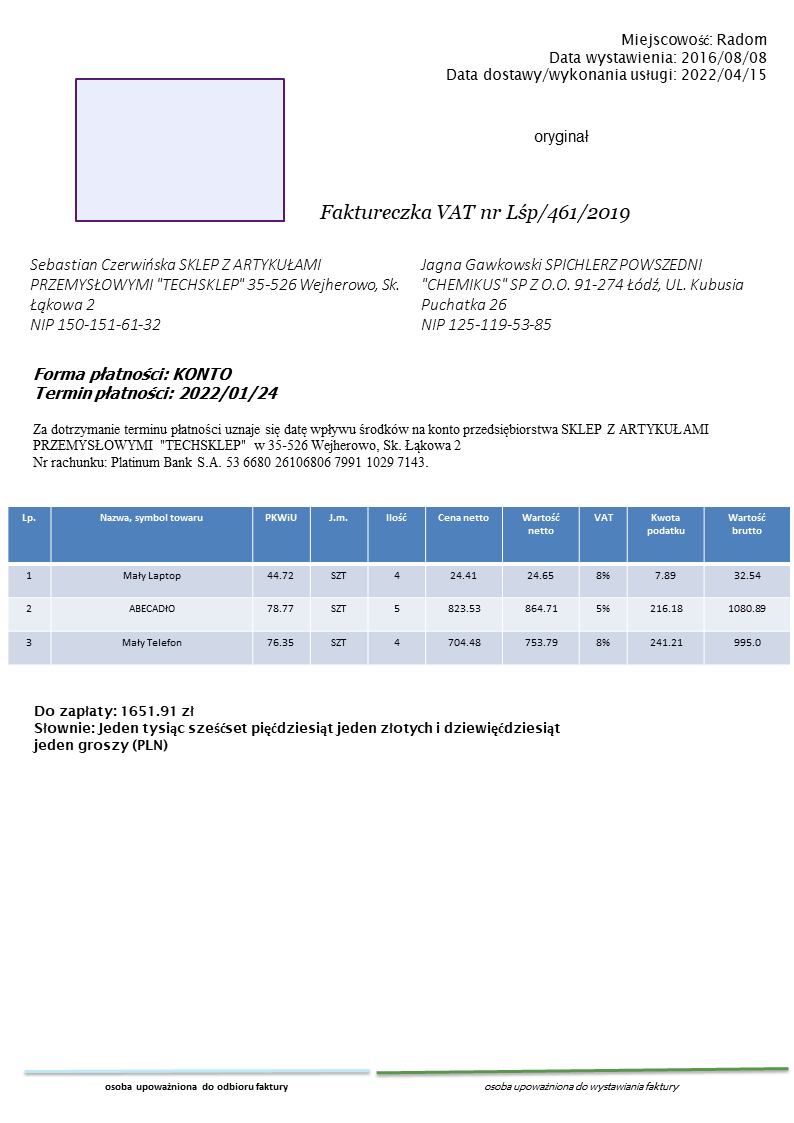Table: (6, 504, 792, 665)
TextBox: (28, 421, 712, 471), (26, 254, 403, 335), (30, 700, 565, 755), (418, 255, 746, 335), (442, 28, 770, 84), (30, 362, 279, 404), (317, 200, 633, 227), (481, 1078, 683, 1097), (103, 1079, 290, 1096), (532, 126, 591, 148)
